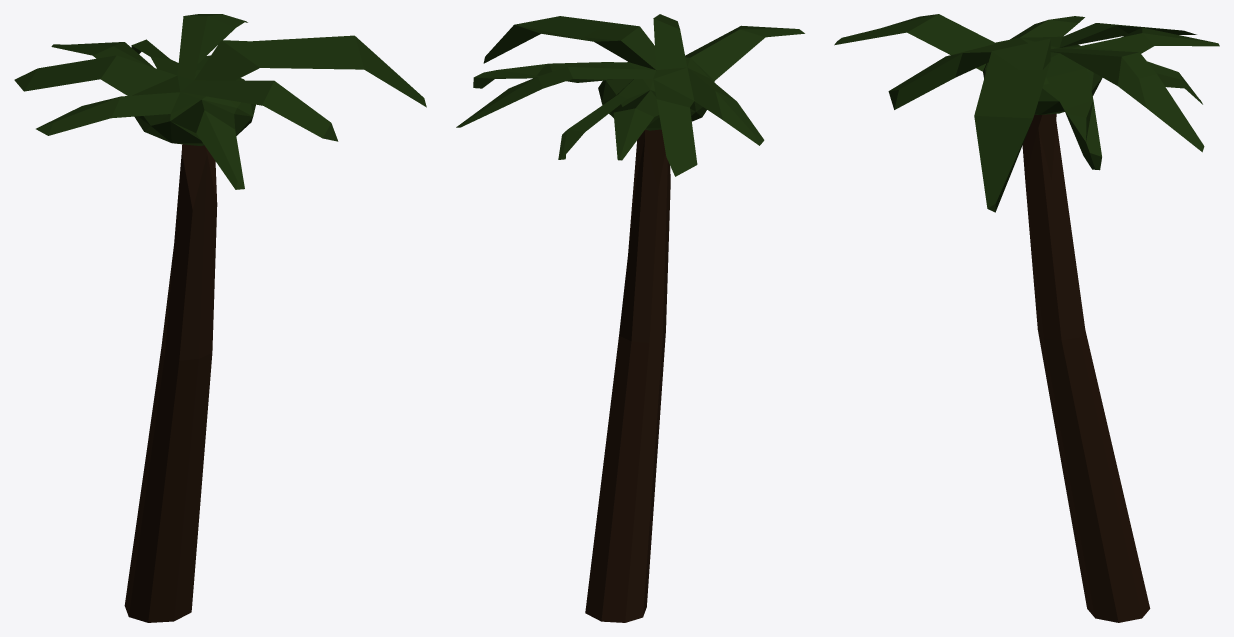
Rendered from tree4.obj.
3 views of the same model, side by side, from view 1: azimuth 30°, elevation 25°; view 2: azimuth 150°, elevation 25°; view 3: azimuth 270°, elevation 25° (orthographic). The views are drawn at different scales.
Parts seen in each view (by area): view 1: Cube; view 2: Cube; view 3: Cube.
Boxes of the visible parts, <box> form: Cube: <box>14,14,426,622</box>; Cube: <box>456,14,804,622</box>; Cube: <box>834,14,1219,622</box>.
Size of the model in its own units: 1.08 by 1.75 by 1.05.
